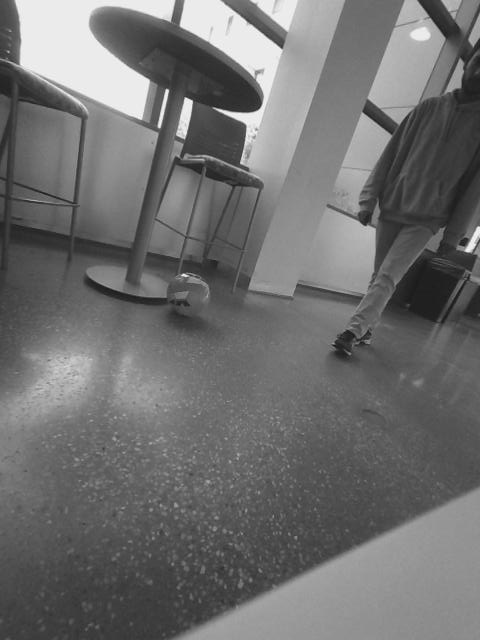ball: (162, 270, 212, 321)
